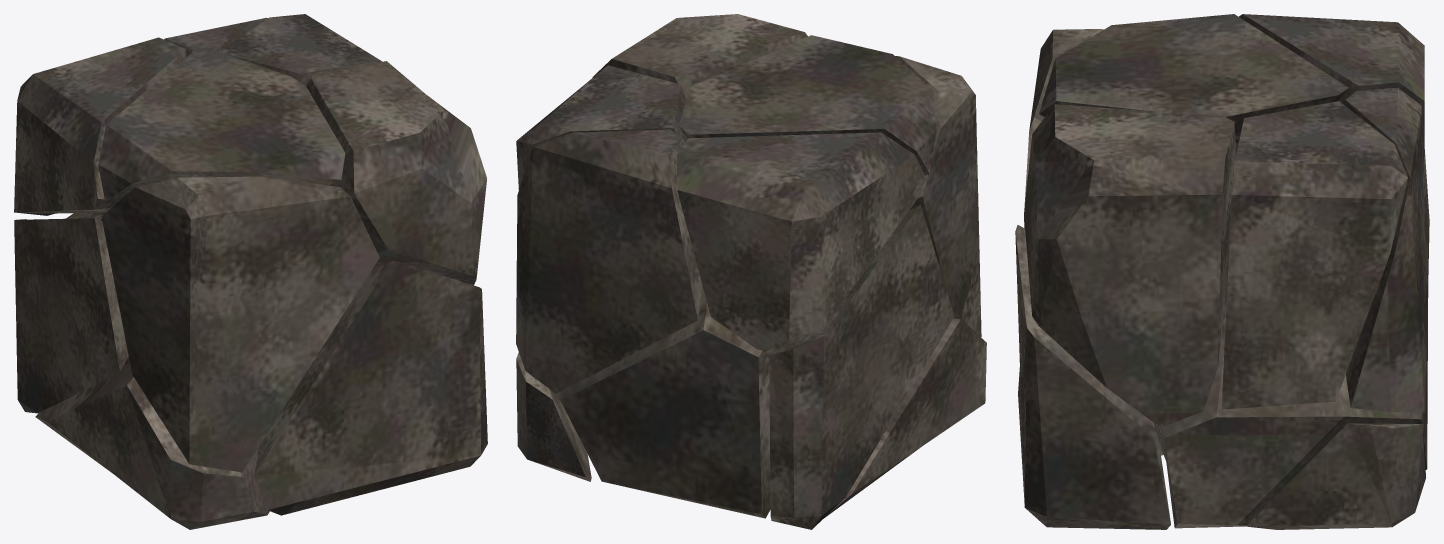
The model's file is crispy.fbx.
3 views of the same model, side by side, from view 1: azimuth 30°, elevation 25°; view 2: azimuth 150°, elevation 25°; view 3: azimuth 270°, elevation 25° (orthographic). The views are drawn at different scales.
Visible parts, largest first — view 1: Stone_4, Stone_11, Stone_6, Stone_1, Stone_9, Stone_5, Stone_2, Stone_3, Stone_10; view 2: Stone_10, Stone_5, Stone_9, Stone_8, Stone_1, Stone_4, Stone_2, Stone_6, Stone_3, Stone_7; view 3: Stone_6, Stone_3, Stone_11, Stone_1, Stone_8, Stone_10, Stone_7, Stone_5, Stone_4.
Part boxes in pixels (left/top/right/bottom): Stone_4: left=101, top=176, right=379, bottom=472; Stone_11: left=254, top=261, right=487, bottom=515; Stone_6: left=306, top=61, right=486, bottom=285; Stone_1: left=98, top=50, right=345, bottom=203; Stone_9: left=14, top=218, right=128, bottom=413; Stone_5: left=14, top=37, right=186, bottom=215; Stone_2: left=35, top=362, right=269, bottom=529; Stone_3: left=219, top=14, right=381, bottom=86; Stone_10: left=164, top=17, right=268, bottom=56; Stone_10: left=516, top=129, right=702, bottom=393; Stone_5: left=677, top=132, right=926, bottom=351; Stone_9: left=769, top=205, right=954, bottom=529; Stone_8: left=557, top=285, right=774, bottom=518; Stone_1: left=679, top=35, right=936, bottom=175; Stone_4: left=895, top=56, right=981, bottom=337; Stone_2: left=823, top=318, right=986, bottom=518; Stone_6: left=592, top=14, right=807, bottom=99; Stone_3: left=516, top=65, right=687, bottom=189; Stone_7: left=516, top=352, right=591, bottom=481; Stone_6: left=1024, top=104, right=1235, bottom=427; Stone_3: left=1221, top=101, right=1407, bottom=409; Stone_11: left=1015, top=225, right=1170, bottom=529; Stone_1: left=1039, top=14, right=1348, bottom=154; Stone_8: left=1154, top=269, right=1428, bottom=528; Stone_10: left=1343, top=87, right=1429, bottom=412; Stone_7: left=1246, top=423, right=1425, bottom=529; Stone_5: left=1239, top=14, right=1424, bottom=143; Stone_4: left=1024, top=29, right=1103, bottom=228.
Size of the model in its own units: 97.4 by 96.48 by 97.53.
Materials: 1 (1 with a texture image).
